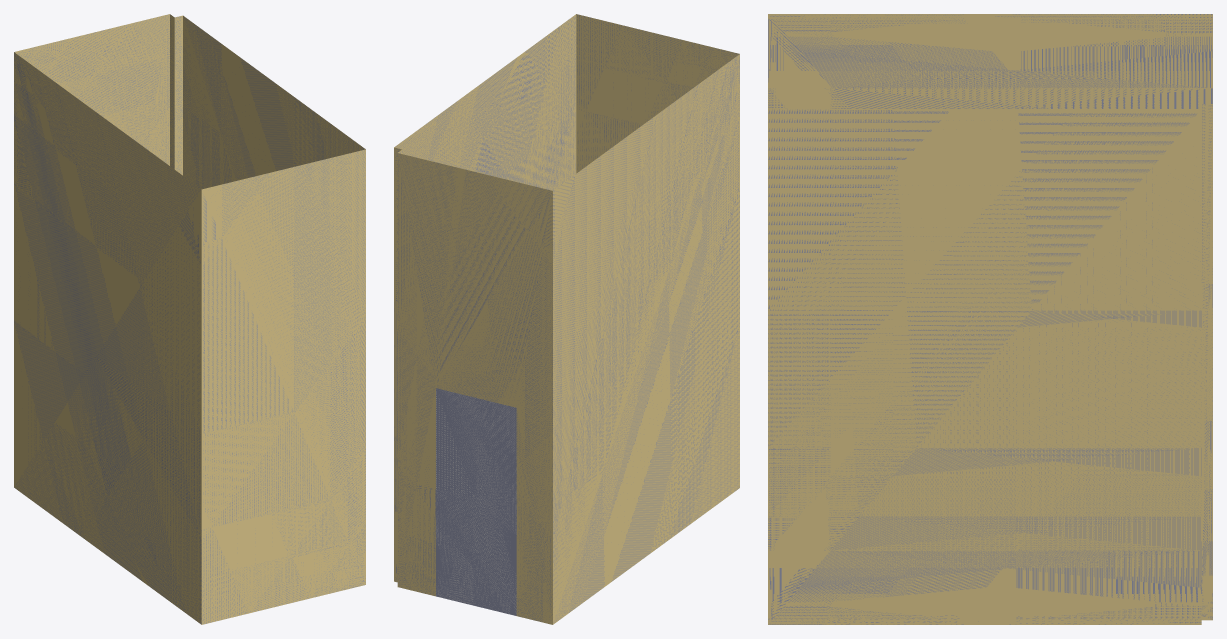
File: CUA002.obj
3 views of the same model, side by side, from view 1: azimuth 30°, elevation 25°; view 2: azimuth 150°, elevation 25°; view 3: azimuth 270°, elevation 25° (orthographic). The views are drawn at different scales.
Parts seen in each view (by area): view 1: Mesh1 CUA002 Model; view 2: Mesh1 CUA002 Model; view 3: Mesh1 CUA002 Model.
Boxes of the visible parts, x1=… form: Mesh1 CUA002 Model: x1=14, y1=14, x2=365, y2=624; Mesh1 CUA002 Model: x1=394, y1=14, x2=739, y2=624; Mesh1 CUA002 Model: x1=768, y1=14, x2=1212, y2=624.
Bounding box in the file's own units: 1.62 × 4.11 × 3.21.
